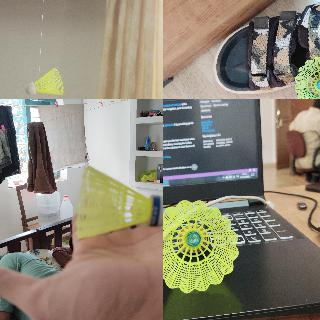shuttlecock: (163, 200, 238, 291), (75, 166, 162, 241), (25, 67, 63, 95), (294, 56, 319, 98)
